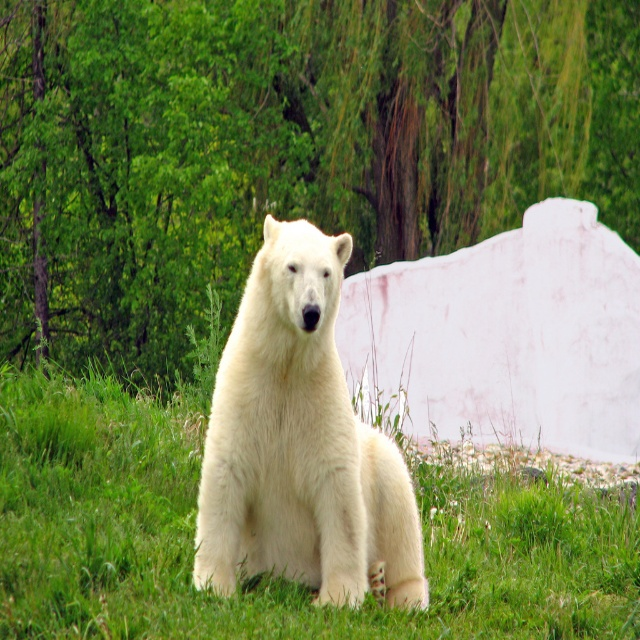Polar bear: (195, 218, 431, 615)
